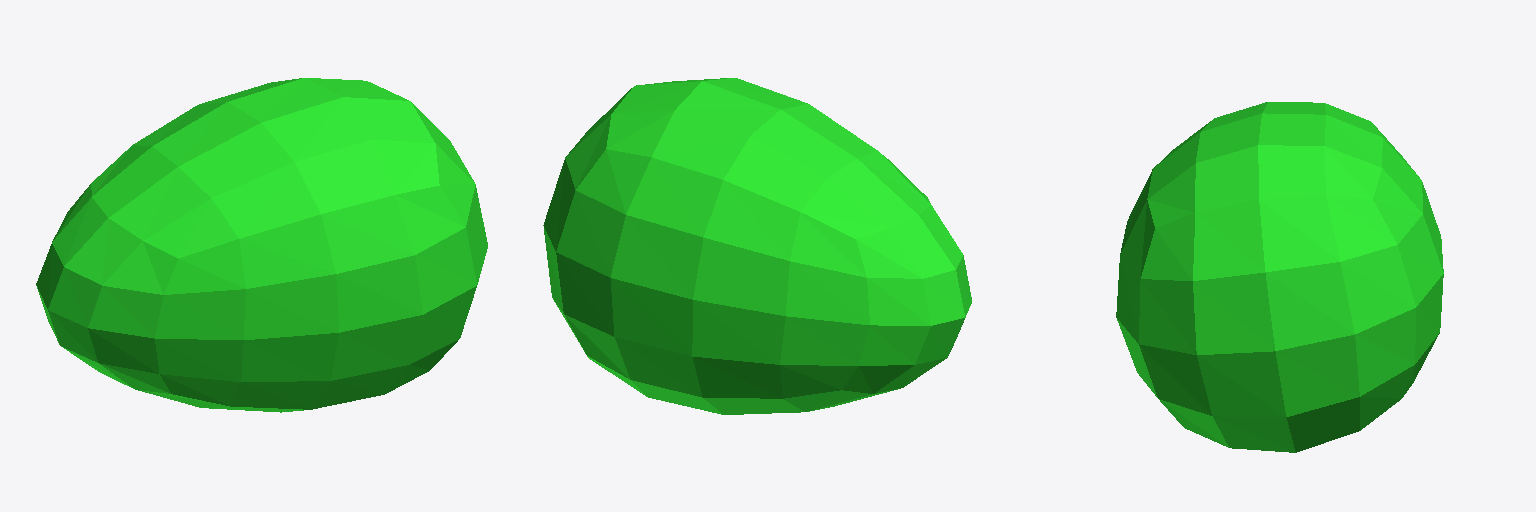
Rendered from manosVerde.obj.
The picture shows the model from 3 angles: view 1: azimuth 30°, elevation 25°; view 2: azimuth 150°, elevation 25°; view 3: azimuth 270°, elevation 25°; orthographic projection.
Visible parts, largest first — view 1: Cube.001; view 2: Cube.001; view 3: Cube.001.
Boxes of the visible parts, box(x1,y1,x2,y2) form: Cube.001: box(36, 78, 487, 412); Cube.001: box(543, 78, 971, 414); Cube.001: box(1116, 102, 1443, 452).
Size of the model in its own units: 1.06 by 0.7392 by 0.7406.